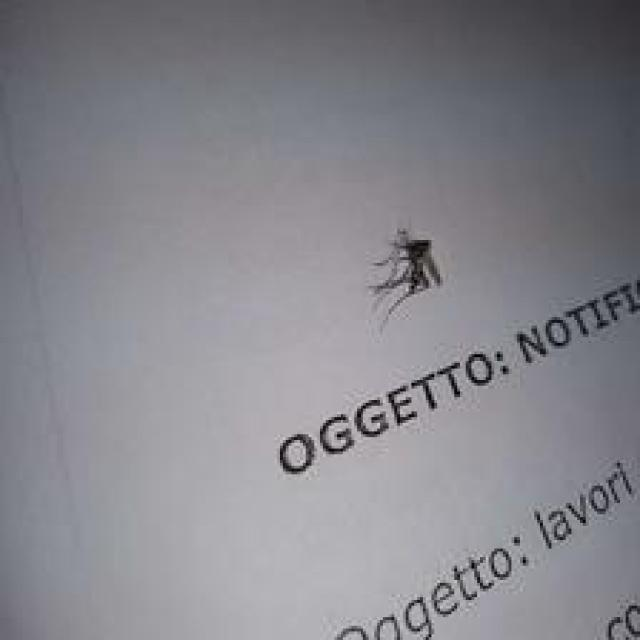Aedes albopictus: (367, 225, 444, 328)
